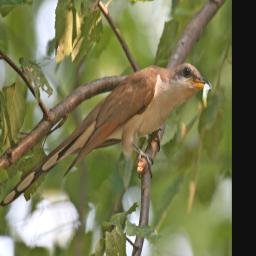Cuckoo: (0, 52, 216, 220)
